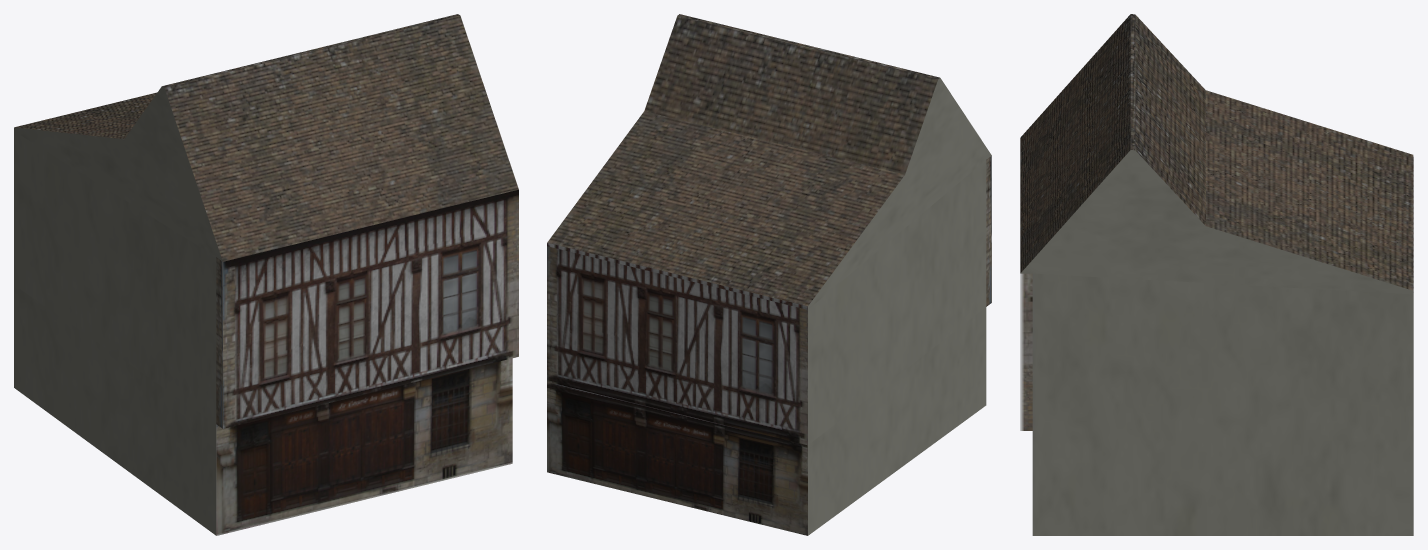
Rendered from small_bar_03.fbx.
3 views of the same model, side by side, from view 1: azimuth 30°, elevation 25°; view 2: azimuth 150°, elevation 25°; view 3: azimuth 270°, elevation 25° (orthographic). The views are drawn at different scales.
Parts seen in each view (by area): view 1: small_bar_03; view 2: small_bar_03; view 3: small_bar_03.
Boxes of the visible parts, x1,y1,x2,y2 form: small_bar_03: [14, 14, 518, 535]; small_bar_03: [547, 14, 991, 535]; small_bar_03: [1020, 14, 1413, 535].
Bounding box in the file's own units: 794 × 1052 × 971.
1 material, 1 textured.
